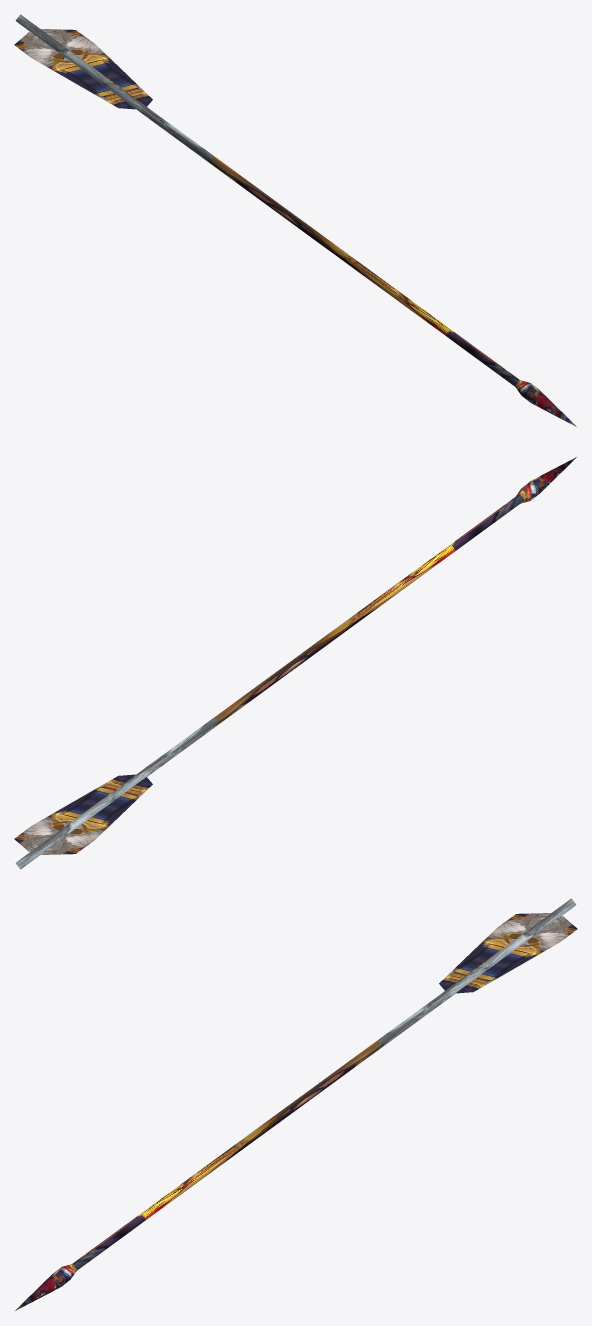
The model's file is jian.FBX.
The picture shows the model from 3 angles, top to bottom: view 1: azimuth 30°, elevation 25°; view 2: azimuth 150°, elevation 25°; view 3: azimuth 330°, elevation 25°; orthographic projection.
Parts seen in each view (by area): view 1: W1006; view 2: W1006; view 3: W1006.
Part boxes in pixels (x1,y1,x2,y2): W1006: (14, 14, 577, 427); W1006: (14, 456, 577, 869); W1006: (14, 898, 577, 1311).
Bounding box in the file's own units: 8.72 × 2.68 × 135.
